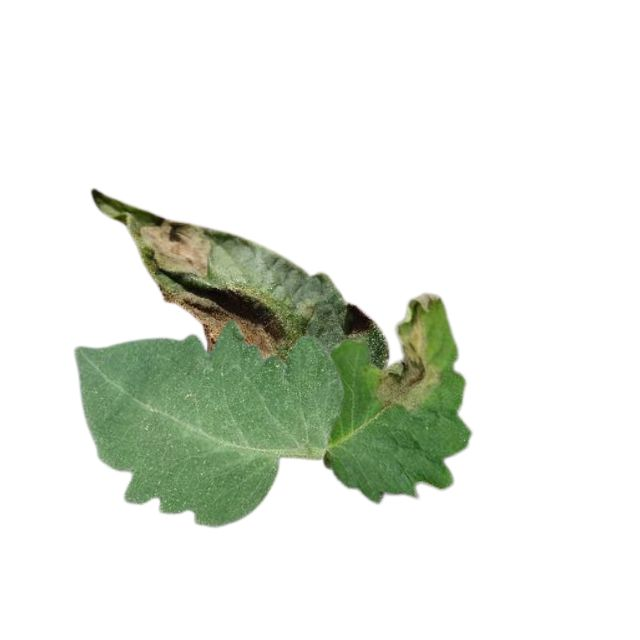Late_blight: (371, 293, 447, 415), (159, 292, 288, 357), (135, 220, 212, 281)
